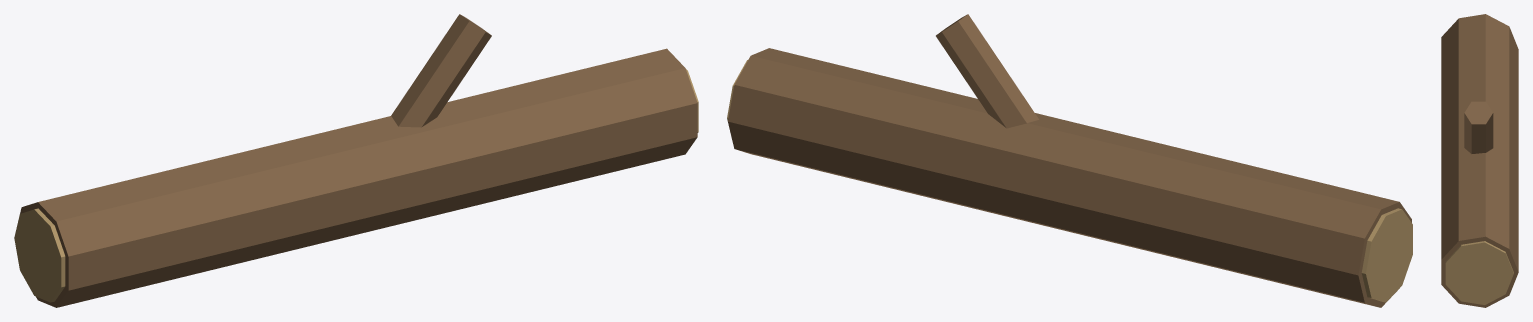
Rendered from log.glb.
3 views of the same model, side by side, from view 1: azimuth 30°, elevation 25°; view 2: azimuth 150°, elevation 25°; view 3: azimuth 270°, elevation 25° (orthographic). The views are drawn at different scales.
Parts seen in each view (by area): view 1: Fallen trunk, End grain; view 2: Fallen trunk, End grain; view 3: Fallen trunk, End grain.
Part boxes in pixels (<box>): Fallen trunk: <box>20,14,697,307</box>; End grain: <box>14,69,698,302</box>; Fallen trunk: <box>728,14,1411,307</box>; End grain: <box>727,60,1412,302</box>; Fallen trunk: <box>1441,14,1518,307</box>; End grain: <box>1445,241,1513,304</box>.
Bounding box in the file's own units: 3.34 × 0.9188 × 0.4849.
